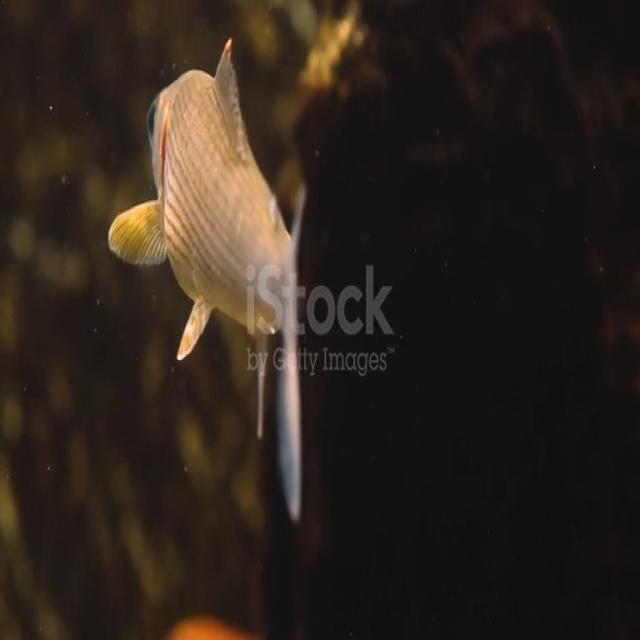fish: (106, 41, 316, 524)
